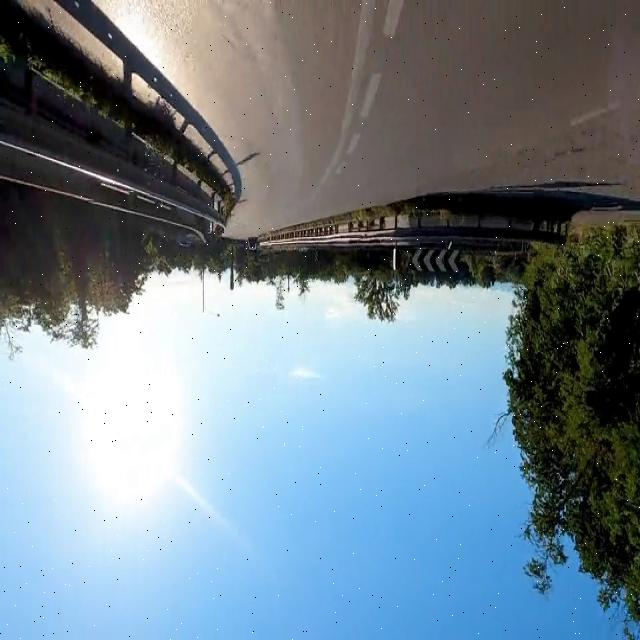lane: (316, 0, 375, 196), (360, 72, 380, 118), (382, 0, 402, 38), (348, 136, 359, 152)
road: (99, 2, 639, 238)
